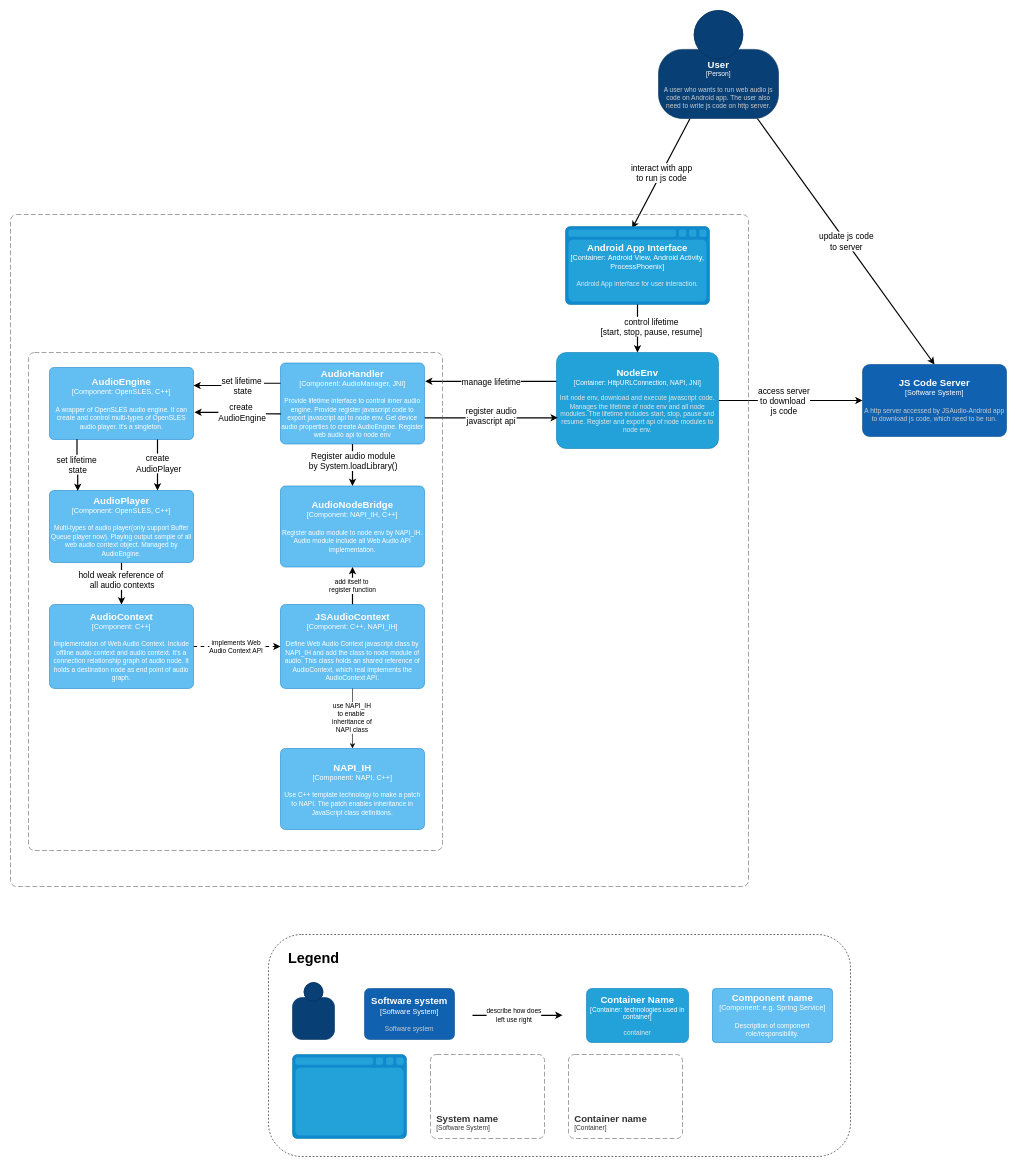
Image size: 1017x1167. Some labels were removed from this diagram. The box of each missing label's shape, as (x1, y1, x2, y2) in pixels:
Application Container Name [Container: Technologies] Application Container: (292, 1054, 406, 1138)
Audio [Container]: (28, 352, 442, 850)
JSAudio-Android [Software System]: (10, 214, 748, 886)
User [Person] system user: (292, 982, 334, 1040)
